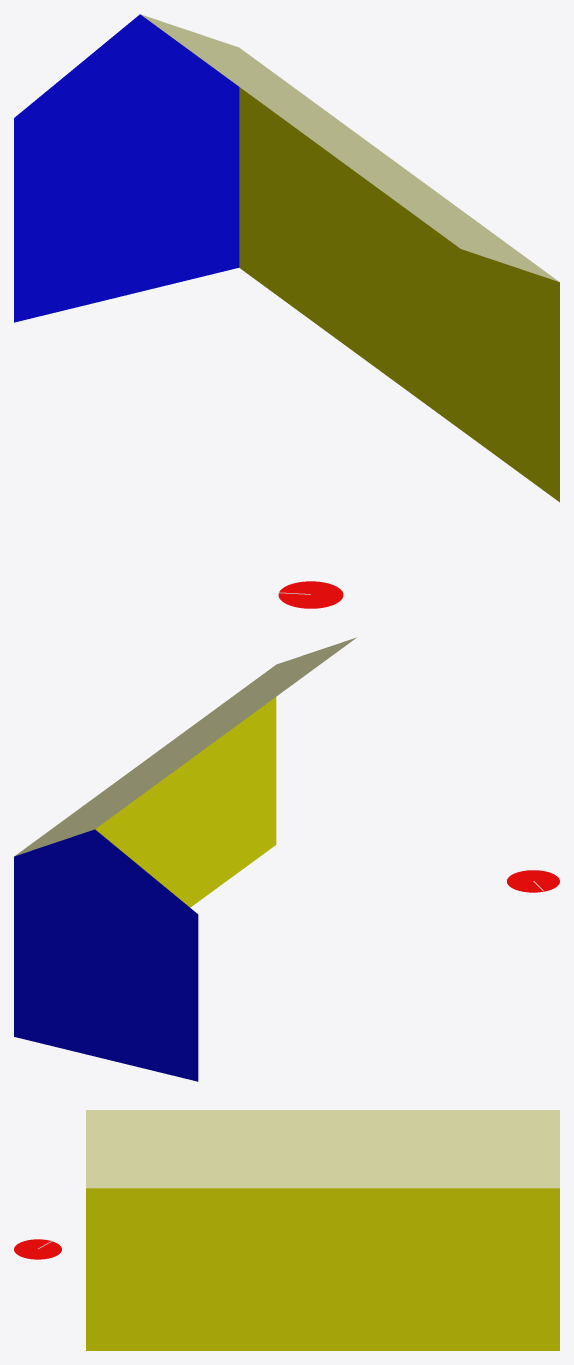
Rendered from result.glb.
3 renders of one model, top to bottom at view 1: azimuth 30°, elevation 25°; view 2: azimuth 150°, elevation 25°; view 3: azimuth 270°, elevation 25°, orthographic. The views are drawn at different scales.
Parts seen in each view (by area): view 1: 324ec553-6df6-4c82-9517-dffbe0bca870__undefined, cfa45bc0-01e3-48c9-8bac-4625671d6cbd__undefined, 30eaebf8-2e86-4844-8a27-bc68fda22751__undefined, bae53bd9-5402-46cf-b417-382ed2fd1893__Circle; view 2: cfa45bc0-01e3-48c9-8bac-4625671d6cbd__undefined, 324ec553-6df6-4c82-9517-dffbe0bca870__undefined, 30eaebf8-2e86-4844-8a27-bc68fda22751__undefined, bae53bd9-5402-46cf-b417-382ed2fd1893__Circle; view 3: 324ec553-6df6-4c82-9517-dffbe0bca870__undefined, 30eaebf8-2e86-4844-8a27-bc68fda22751__undefined, bae53bd9-5402-46cf-b417-382ed2fd1893__Circle.
Part boxes in pixels (x1,y1,x2,y2): 324ec553-6df6-4c82-9517-dffbe0bca870__undefined: (239,87,559,502); cfa45bc0-01e3-48c9-8bac-4625671d6cbd__undefined: (14,14,239,322); 30eaebf8-2e86-4844-8a27-bc68fda22751__undefined: (141,14,558,281); bae53bd9-5402-46cf-b417-382ed2fd1893__Circle: (278,581,343,608); cfa45bc0-01e3-48c9-8bac-4625671d6cbd__undefined: (14,829,198,1081); 324ec553-6df6-4c82-9517-dffbe0bca870__undefined: (95,697,276,907); 30eaebf8-2e86-4844-8a27-bc68fda22751__undefined: (14,637,356,856); bae53bd9-5402-46cf-b417-382ed2fd1893__Circle: (507,870,559,892); 324ec553-6df6-4c82-9517-dffbe0bca870__undefined: (86,1188,559,1350); 30eaebf8-2e86-4844-8a27-bc68fda22751__undefined: (86,1110,559,1188); bae53bd9-5402-46cf-b417-382ed2fd1893__Circle: (14,1239,61,1259).
Size of the model in its own units: 550 by 471 by 1137.
